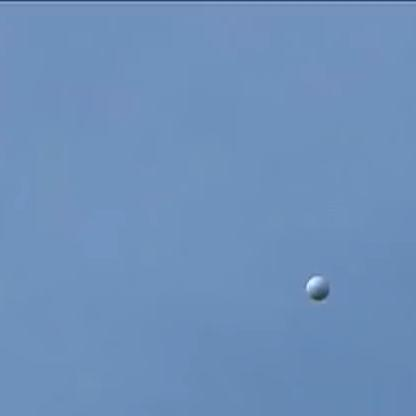golfball: (303, 268, 327, 298)
